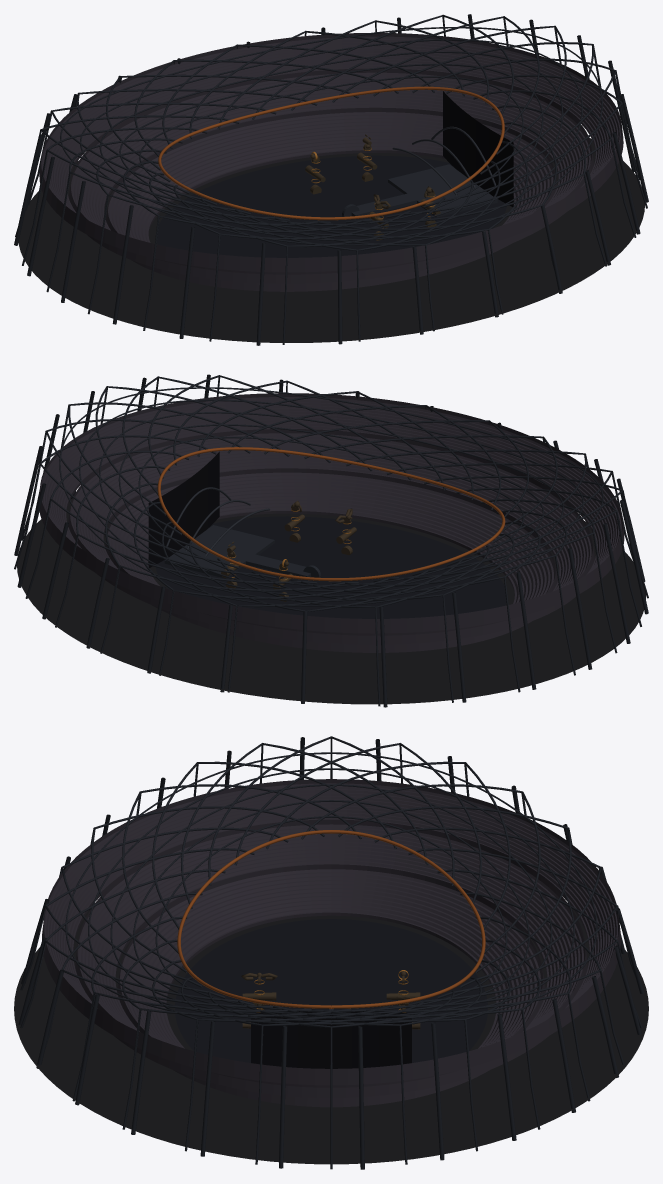
3 views of the same model, one above another, from view 1: azimuth 30°, elevation 25°; view 2: azimuth 150°, elevation 25°; view 3: azimuth 270°, elevation 25° (orthographic). The views are drawn at different scales.
Parts seen in each view (by area): view 1: HULL_LATTICE, PLAZA_IN, STAND_UPPER, STAND_MIDDLE, STAND_LOWER, FIELD, LED_WALL, ROOF_RIM, STAGE_DECK, TRUSSES, STAGE_RUNWAY; view 2: HULL_LATTICE, PLAZA_IN, STAND_UPPER, STAND_MIDDLE, STAND_LOWER, FIELD, LED_WALL, ROOF_RIM, STAGE_DECK, TRUSSES, STAGE_RUNWAY; view 3: HULL_LATTICE, PLAZA_IN, STAND_UPPER, STAND_MIDDLE, STAND_LOWER, FIELD, LED_WALL, ROOF_RIM.
Boxes of the visible parts, x1,y1,x2,y2 form: HULL_LATTICE: (14, 14, 648, 345); PLAZA_IN: (18, 138, 644, 342); STAND_UPPER: (39, 33, 623, 274); STAND_MIDDLE: (68, 69, 594, 283); STAND_LOWER: (105, 108, 557, 291); FIELD: (157, 155, 506, 257); LED_WALL: (443, 91, 513, 206); ROOF_RIM: (158, 86, 504, 220); STAGE_DECK: (388, 164, 497, 217); TRUSSES: (392, 126, 496, 195); STAGE_RUNWAY: (351, 193, 416, 216); HULL_LATTICE: (14, 374, 648, 707); PLAZA_IN: (17, 498, 645, 704); STAND_UPPER: (39, 393, 624, 635); STAND_MIDDLE: (68, 429, 594, 644); STAND_LOWER: (105, 469, 557, 652); FIELD: (155, 516, 506, 618); LED_WALL: (148, 451, 219, 567); ROOF_RIM: (157, 447, 505, 581); STAGE_DECK: (164, 525, 274, 578); TRUSSES: (166, 487, 270, 556); STAGE_RUNWAY: (246, 554, 310, 576); HULL_LATTICE: (18, 736, 643, 1169); PLAZA_IN: (14, 909, 648, 1164); STAND_UPPER: (42, 779, 620, 1087); STAND_MIDDLE: (75, 820, 587, 1097); STAND_LOWER: (117, 865, 545, 1107); FIELD: (175, 919, 487, 1062); LED_WALL: (251, 1011, 411, 1068); ROOF_RIM: (177, 830, 485, 1008).
Size of what is drawn, in the model's own units: 353 by 70.43 by 300.
